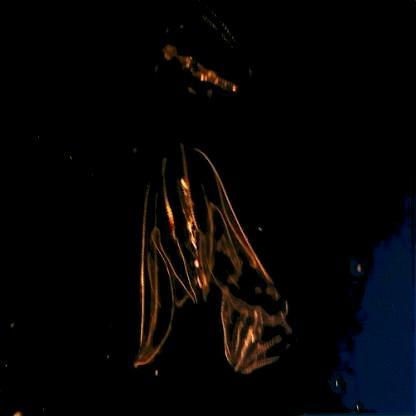Comb: (130, 143, 282, 376), (110, 5, 253, 131), (222, 287, 297, 379)
